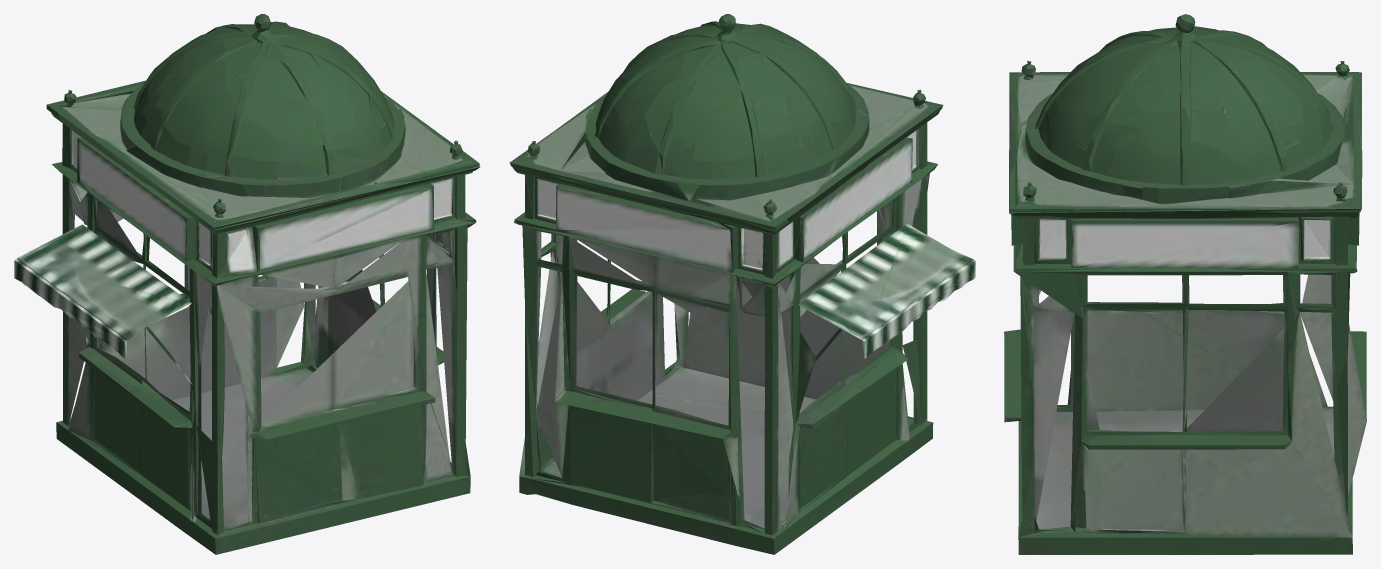
Rendered from street_kiosk.glb.
3 renders of one model, left to right at view 1: azimuth 30°, elevation 25°; view 2: azimuth 150°, elevation 25°; view 3: azimuth 270°, elevation 25°, orthographic. The views are drawn at different scales.
Visible parts, largest first — view 1: Mesh_0; view 2: Mesh_0; view 3: Mesh_0.
Part boxes in pixels (x1,y1,x2,y2): Mesh_0: [14, 14, 480, 554]; Mesh_0: [509, 14, 975, 554]; Mesh_0: [1004, 14, 1366, 554].
Size of the model in its own units: 2.32 by 3 by 2.08.
1 material, 1 textured.
